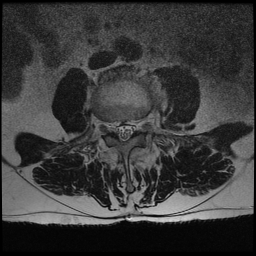CCS_normal: (120, 113, 127, 148)
LFS_normal: (136, 112, 144, 138)
LLS_normal: (128, 113, 136, 143)
RFS_normal: (103, 112, 112, 140)
RLS_normal: (112, 113, 121, 143)
